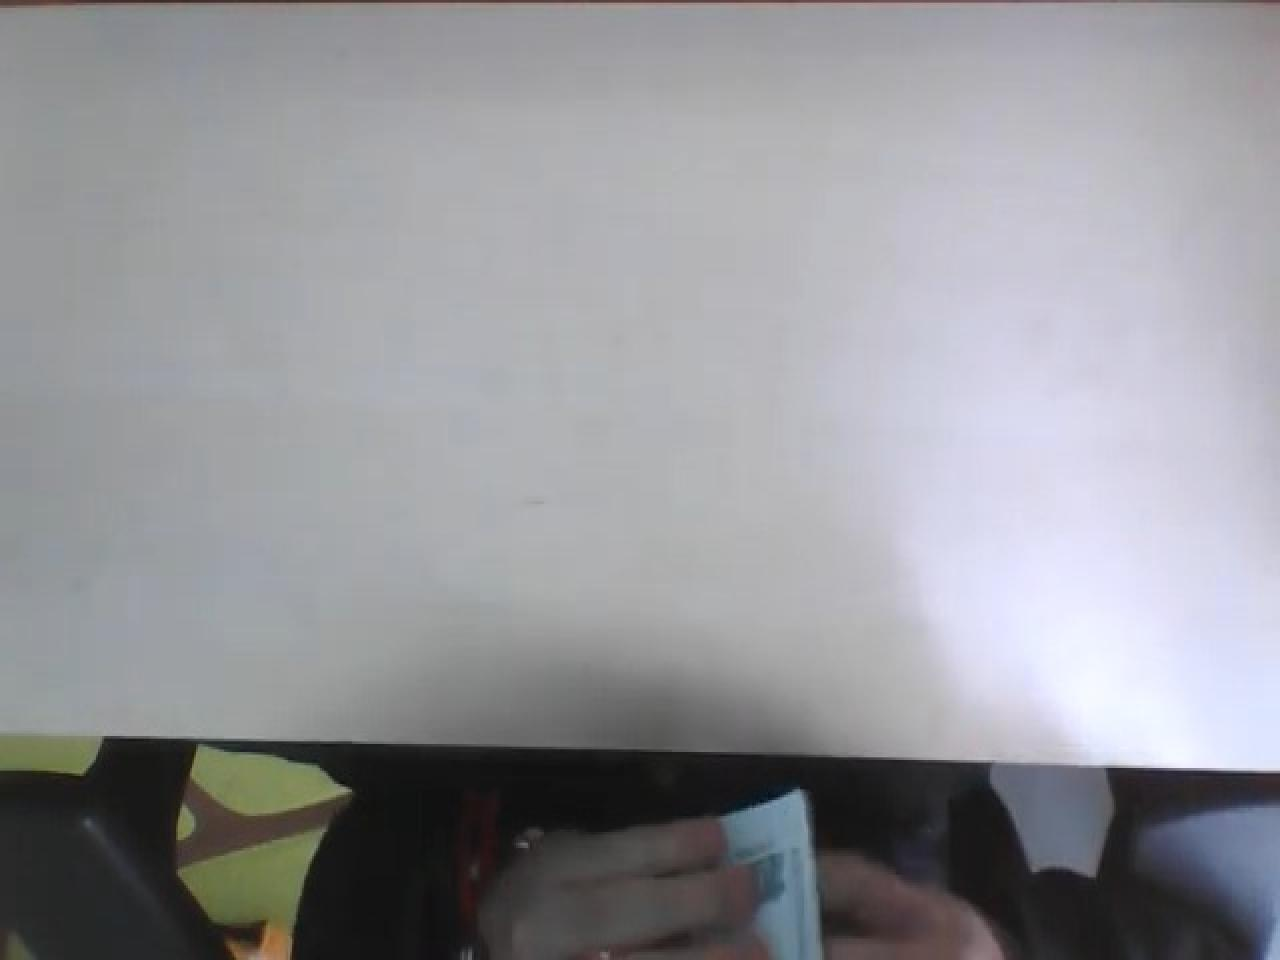100leva: (470, 787, 828, 960)
